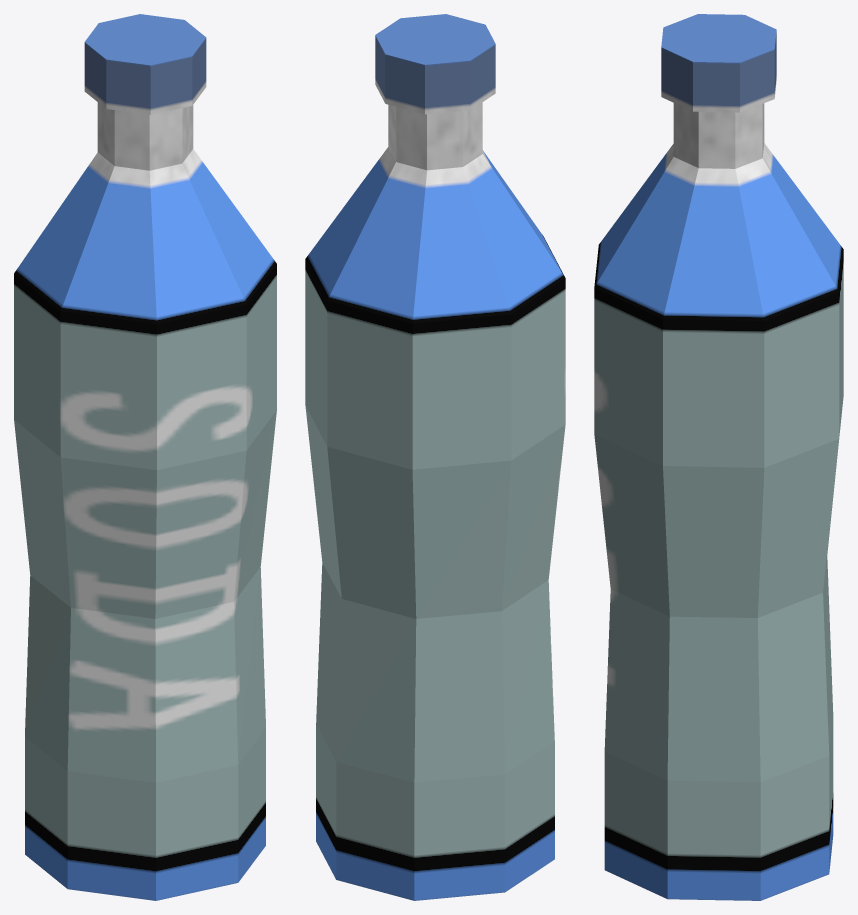
Rendered from bottle 4.FBX.
3 views of the same model, side by side, from view 1: azimuth 30°, elevation 25°; view 2: azimuth 150°, elevation 25°; view 3: azimuth 270°, elevation 25° (orthographic).
Parts seen in each view (by area): view 1: 礦泉水014; view 2: 礦泉水014; view 3: 礦泉水014.
Boxes of the visible parts, x1,y1,x2,y2 form: 礦泉水014: (14,14,276,900); 礦泉水014: (305,14,565,900); 礦泉水014: (594,14,843,900).
Bounding box in the file's own units: 36.02 × 130 × 36.02.
1 material, 1 textured.
